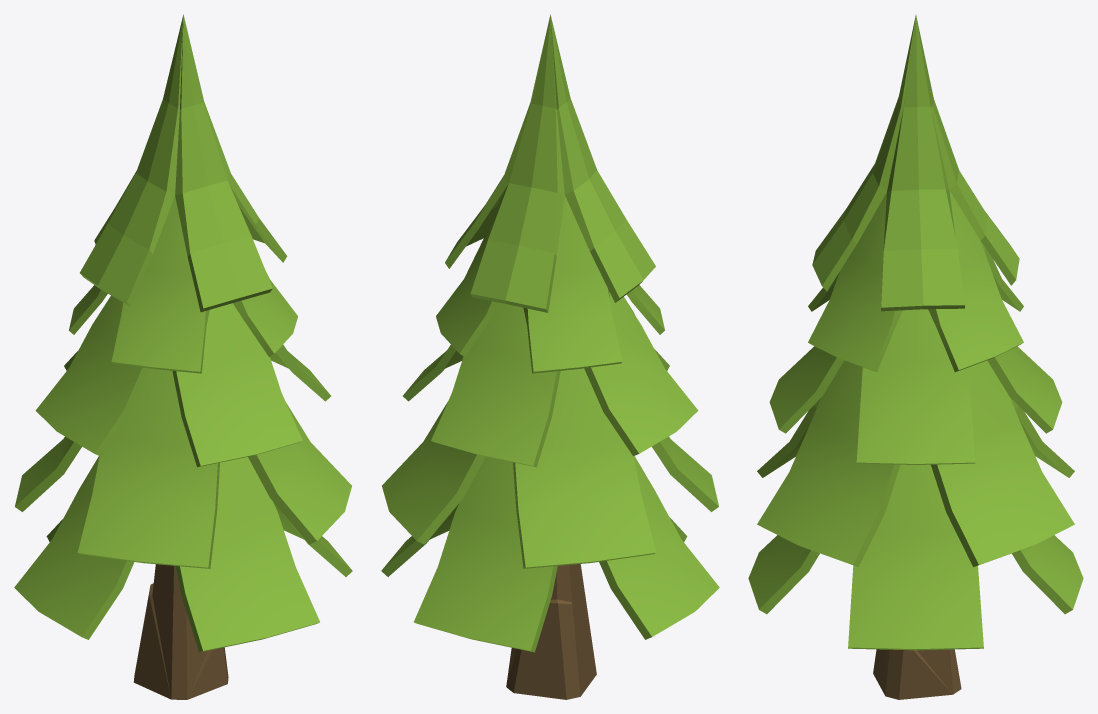
The model's file is model_polytope_fern02_large.fbx.
3 views of the same model, side by side, from view 1: azimuth 30°, elevation 25°; view 2: azimuth 150°, elevation 25°; view 3: azimuth 270°, elevation 25° (orthographic).
Parts seen in each view (by area): view 1: model_polytope_fern02_large; view 2: model_polytope_fern02_large; view 3: model_polytope_fern02_large.
Boxes of the visible parts, x1,y1,x2,y2 form: model_polytope_fern02_large: [14, 14, 352, 699]; model_polytope_fern02_large: [381, 14, 719, 699]; model_polytope_fern02_large: [748, 15, 1083, 699].
Size of the model in its own units: 304 by 668 by 304.
Materials: 1 (1 with a texture image).
